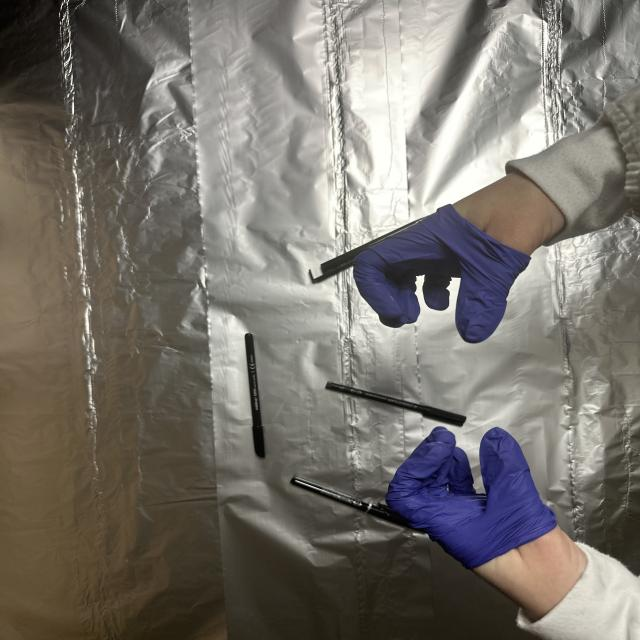glove_partial: (383, 423, 593, 623), (352, 171, 570, 345)
